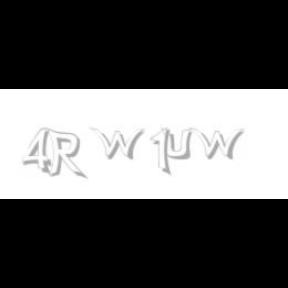1: (150, 128, 172, 176)
4: (21, 128, 52, 174)
R: (46, 128, 84, 180)
u: (161, 128, 196, 160)
w: (91, 128, 150, 160), (189, 128, 248, 160)
